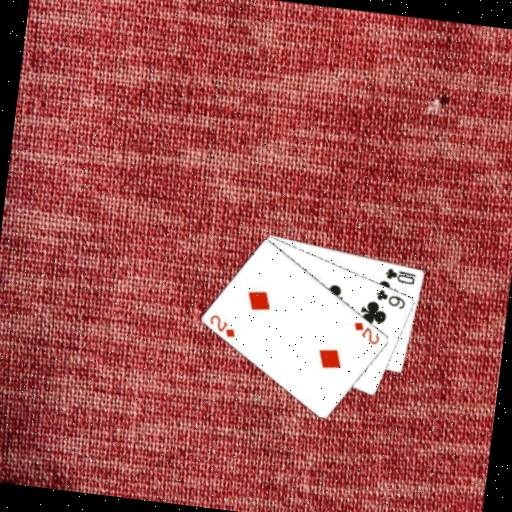10C: (382, 264, 419, 287)
2D: (350, 318, 384, 347), (205, 311, 239, 340)
6C: (373, 286, 409, 311)
